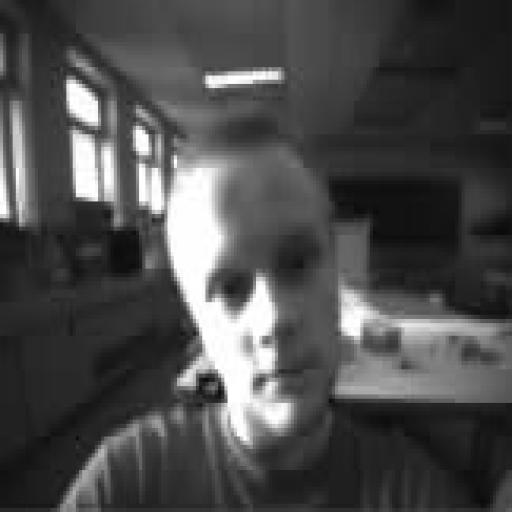human: (61, 110, 470, 511)
